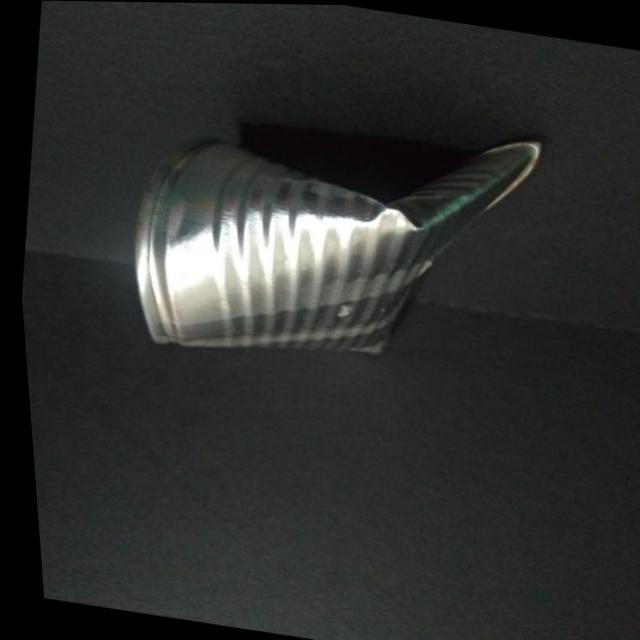metal: (105, 75, 567, 405)
